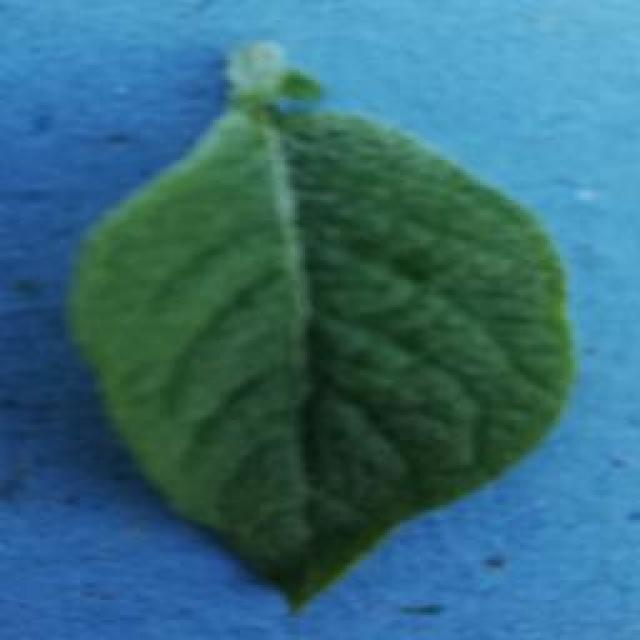Potato_Healthy: (67, 41, 576, 614)
